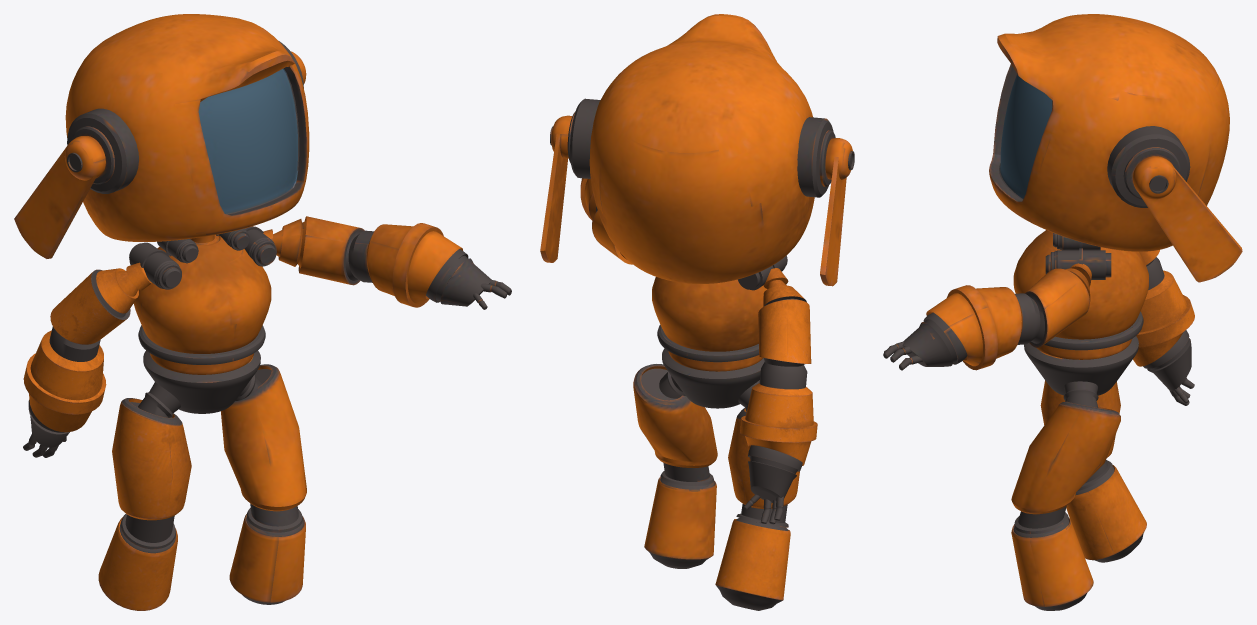
The model's file is lovedeath__robots.glb.
3 renders of one model, left to right at view 1: azimuth 30°, elevation 25°; view 2: azimuth 150°, elevation 25°; view 3: azimuth 270°, elevation 25°, orthographic. The views are drawn at different scales.
Visible parts, largest first — view 1: Sphere, Cylinder.002, Cylinder, Cylinder.005, Cylinder.011, Cylinder.001, Cylinder.007, Cylinder.003, Cylinder.008; view 2: Sphere, Cylinder.002, Cylinder.011, Cylinder, Cylinder.005, Cylinder.001, Cylinder.013, Cylinder.007; view 3: Sphere, Cylinder.002, Cylinder, Cylinder.005, Cylinder.011.
Boxes of the visible parts, box(x1,y1,x2,y2) form: Sphere: box(65, 14, 309, 241); Cylinder.002: box(216, 41, 511, 604); Cylinder: box(133, 235, 271, 413); Cylinder.005: box(98, 398, 191, 610); Cylinder.011: box(23, 262, 151, 447); Cylinder.001: box(14, 108, 138, 258); Cylinder.007: box(129, 242, 181, 289); Cylinder.003: box(138, 382, 180, 417); Cylinder.008: box(157, 239, 198, 263); Sphere: box(589, 14, 814, 283); Cylinder.002: box(540, 98, 717, 568); Cylinder.011: box(740, 268, 817, 502); Cylinder: box(652, 277, 767, 408); Cylinder.005: box(715, 407, 799, 610); Cylinder.001: box(797, 117, 854, 286); Cylinder.013: box(744, 494, 783, 524); Cylinder.007: box(738, 255, 787, 290); Sphere: box(989, 14, 1229, 251); Cylinder.002: box(883, 126, 1242, 610); Cylinder: box(1013, 230, 1148, 395); Cylinder.005: box(1040, 380, 1146, 562); Cylinder.011: box(1133, 250, 1194, 391).
Bounding box in the file's own units: 634 × 933 × 547.
1 material, 1 textured.
